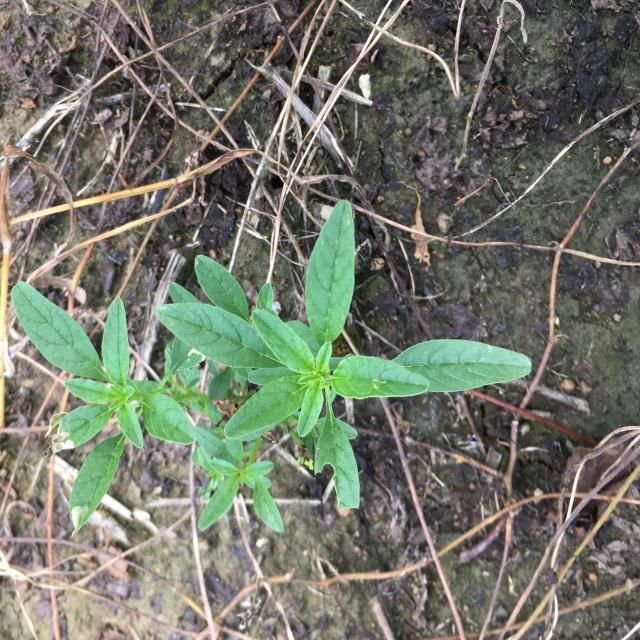Waterhemp: (11, 199, 532, 538)
